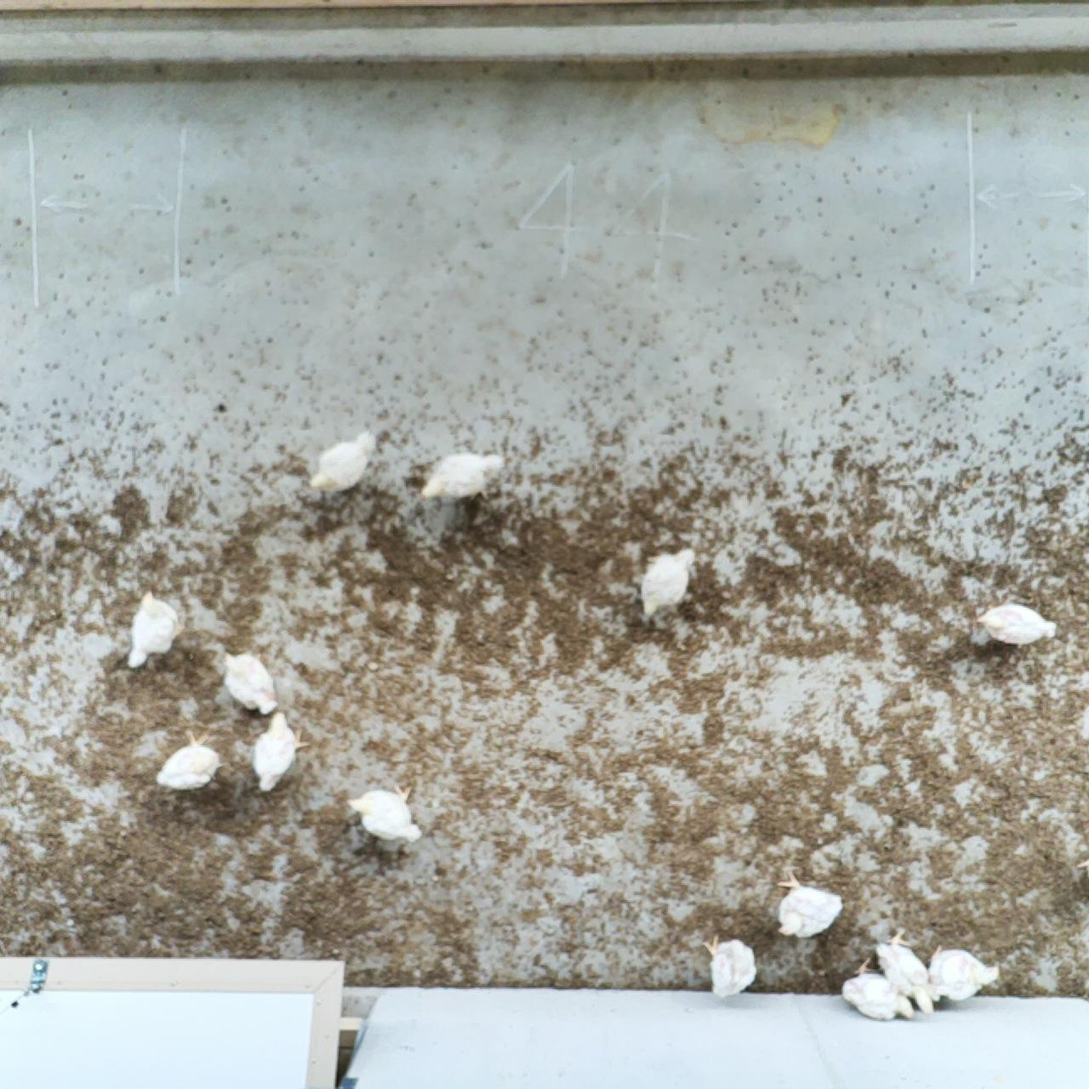chicken: (871, 929, 936, 1019), (841, 961, 915, 1029), (349, 781, 424, 844), (778, 871, 842, 939), (422, 449, 504, 502), (126, 594, 182, 670), (313, 429, 376, 495), (638, 544, 694, 616), (931, 946, 997, 1004), (254, 710, 299, 795), (703, 934, 759, 1001), (977, 602, 1058, 648), (223, 650, 279, 715), (155, 738, 220, 793)
